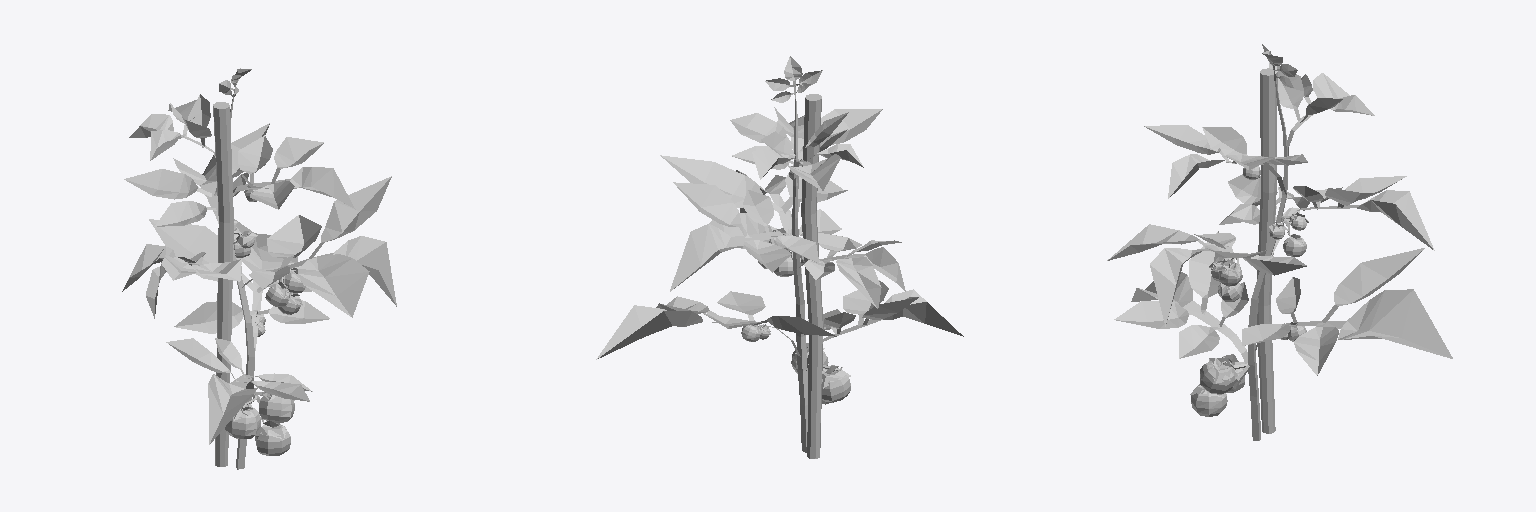
Rendered from tomato_bush.obj.
3 renders of one model, left to right at view 1: azimuth 30°, elevation 25°; view 2: azimuth 150°, elevation 25°; view 3: azimuth 270°, elevation 25°, orthographic.
Parts seen in each view (by area): view 1: Object_4, Object_5; view 2: Object_4, Object_5; view 3: Object_4, Object_5.
Part boxes in pixels (x1,y1,x2,y2): Object_4: (122, 68, 396, 469); Object_5: (213, 102, 233, 466); Object_4: (596, 56, 963, 452); Object_5: (801, 94, 823, 458); Object_4: (1107, 44, 1452, 440); Object_5: (1257, 68, 1277, 433).
Size of the model in its own units: 0.6236 by 0.9591 by 0.7672.